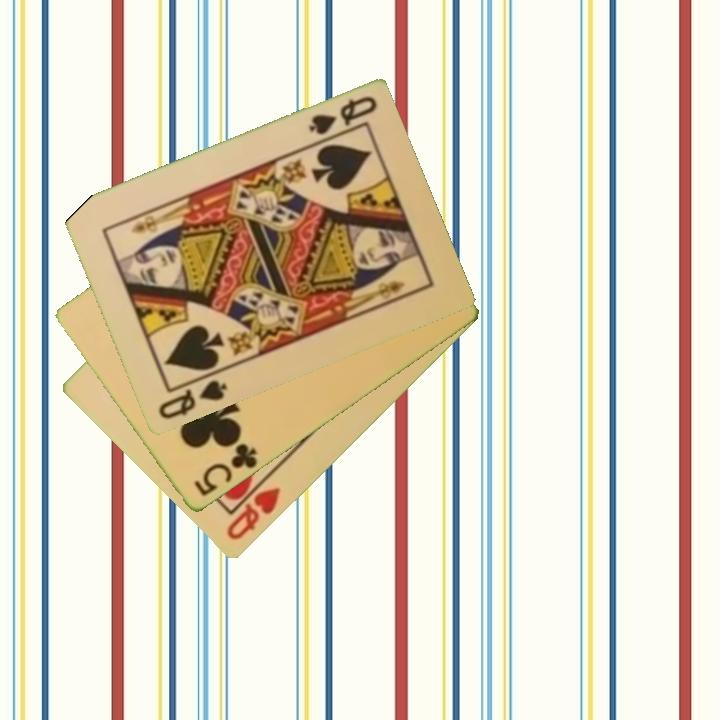5c: (190, 440, 261, 500)
Qh: (223, 471, 284, 544)
Qs: (154, 377, 231, 423), (305, 93, 380, 139)
